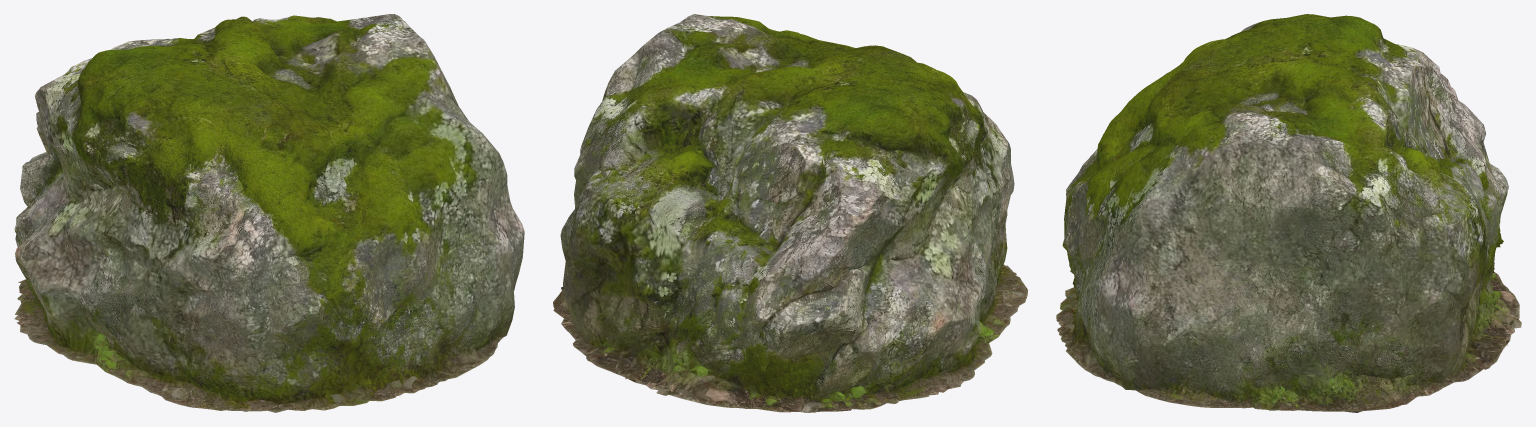
Rendered from rock-boulder.glb.
3 renders of one model, left to right at view 1: azimuth 30°, elevation 25°; view 2: azimuth 150°, elevation 25°; view 3: azimuth 270°, elevation 25°, orthographic. The views are drawn at different scales.
Parts seen in each view (by area): view 1: Mesh_0; view 2: Mesh_0; view 3: Mesh_0.
Part boxes in pixels (bbox=[...]): Mesh_0: bbox=[14, 14, 524, 412]; Mesh_0: bbox=[553, 14, 1027, 412]; Mesh_0: bbox=[1056, 14, 1521, 412].
Size of the model in its own units: 1.83 by 1.1 by 1.89.
1 material, 1 textured.
